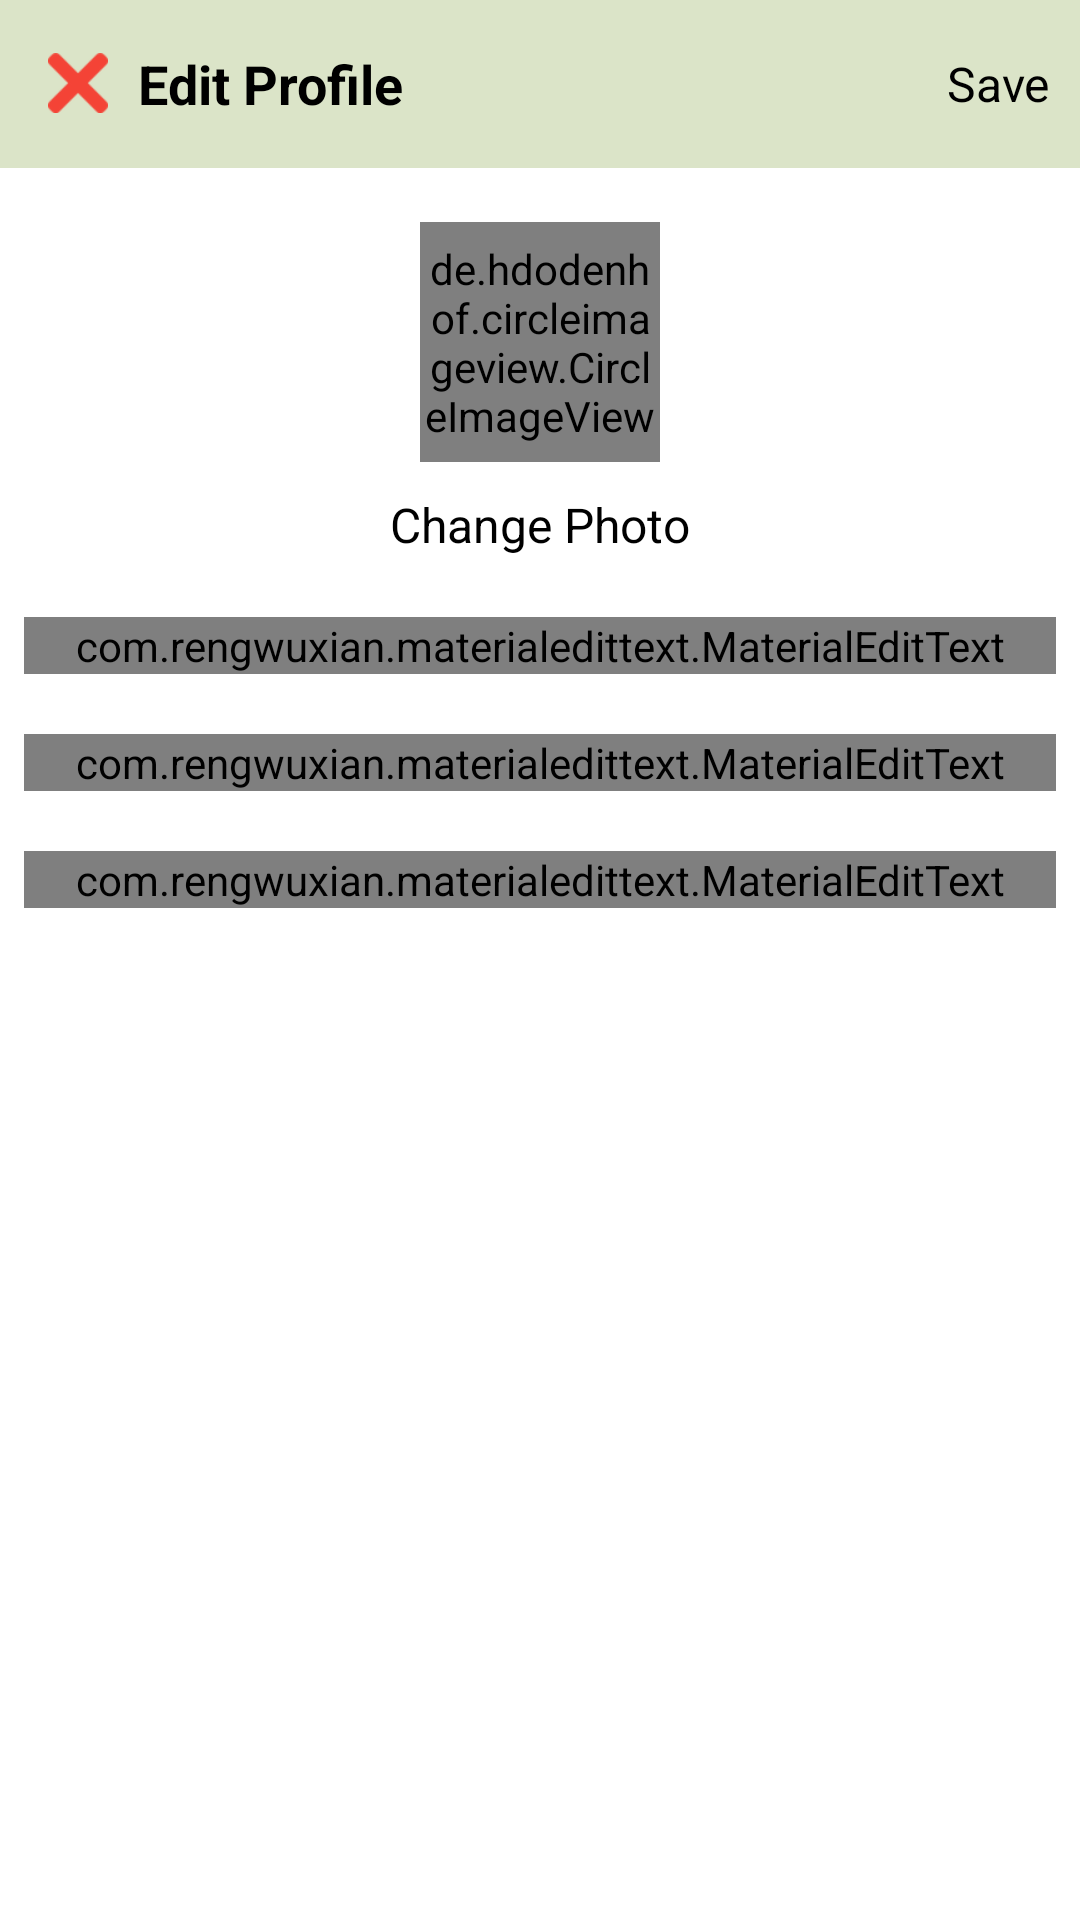

Screen size 1080 x 1920. Icon name, then its center in pixels as [x,y]:
close: [78,83]
